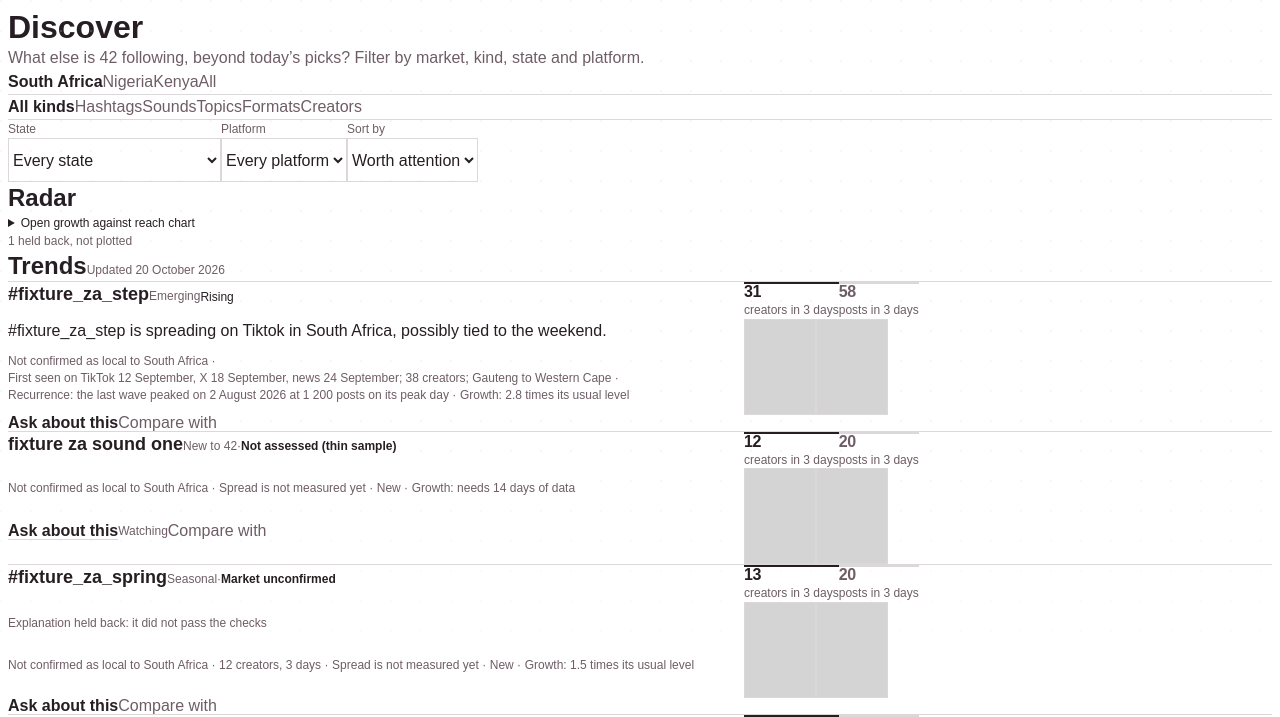
Test: a failed filter change clears prior scope results and offers a manual retry
Select "Emerging" in the dropdown named "state" at (114, 160), box x1=8 y1=138 x2=221 y2=182
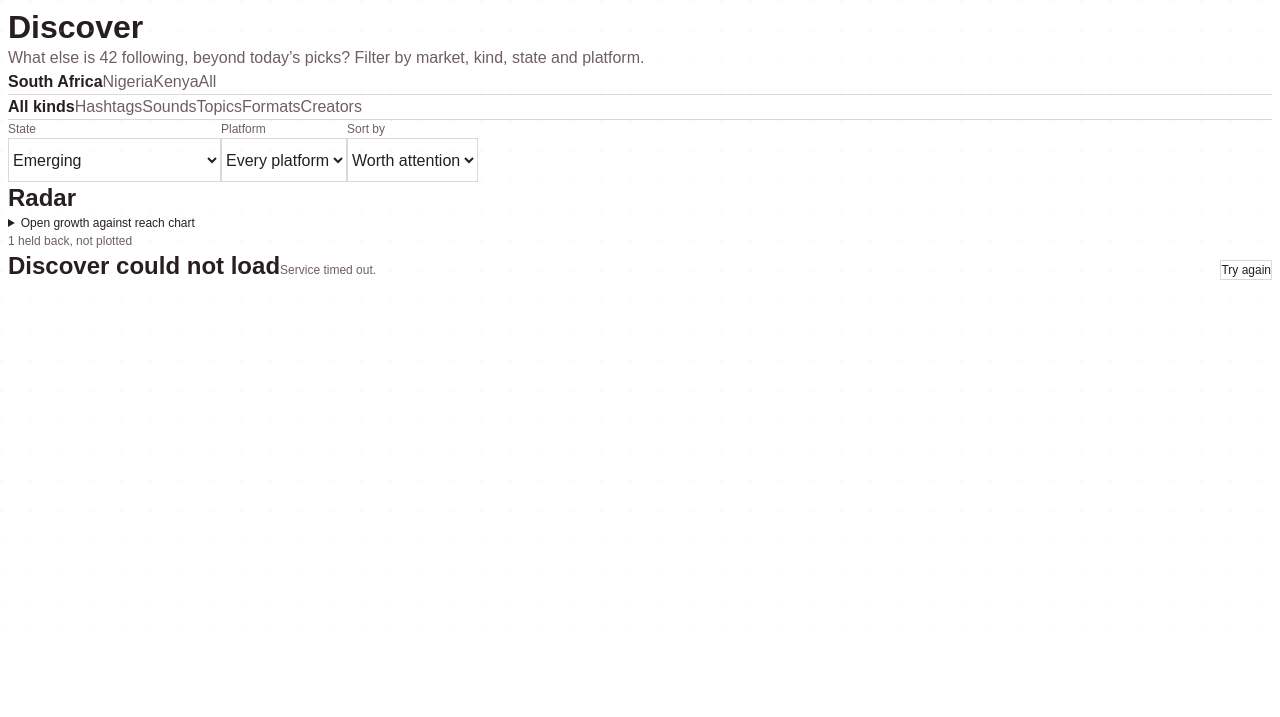
Now the text "Discover could not load" is shown, box x1=8 y1=250 x2=280 y2=281
Now the text "Service timed out." is shown, box x1=280 y1=263 x2=376 y2=277
Click the button "Try again".
click(1246, 270)  # box x1=1220 y1=260 x2=1272 y2=280
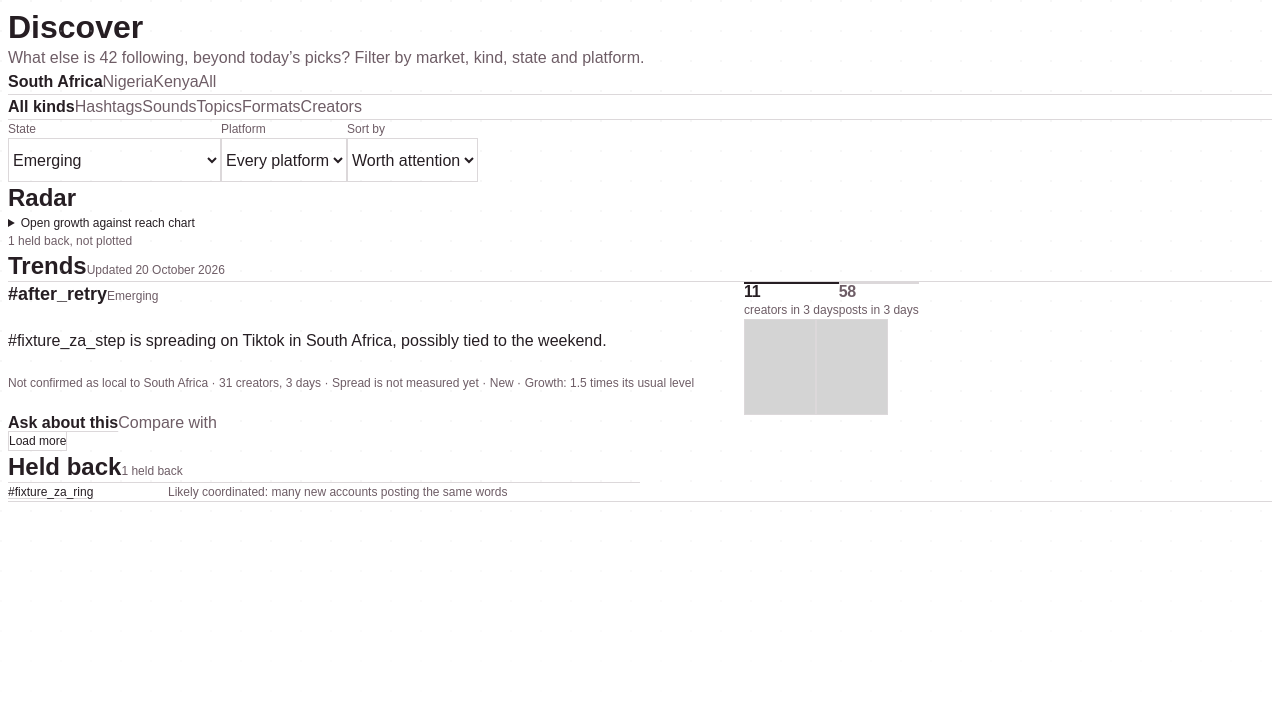
Now the list item that starts with "#after_retry" is shown, box x1=8 y1=281 x2=1272 y2=431
